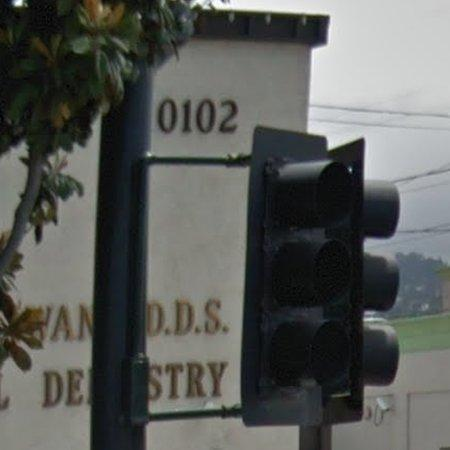traffic lights: (243, 127, 400, 427)
